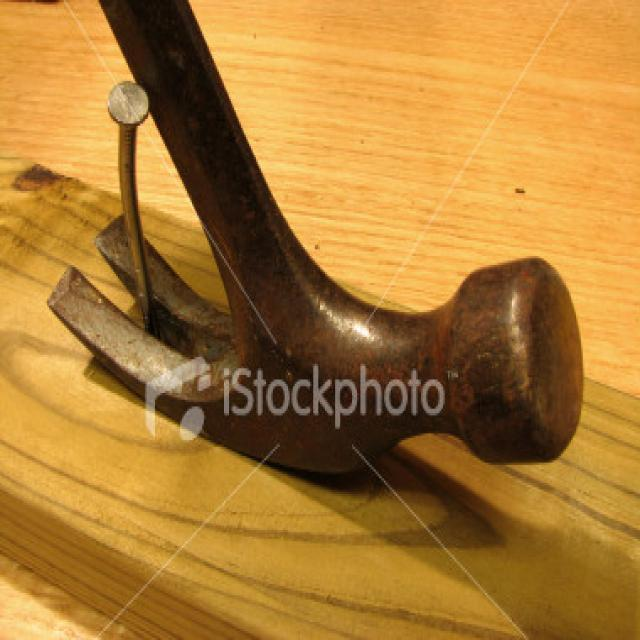hammer: (38, 0, 596, 523)
